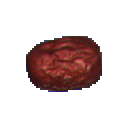gd: (15, 16, 116, 119)
